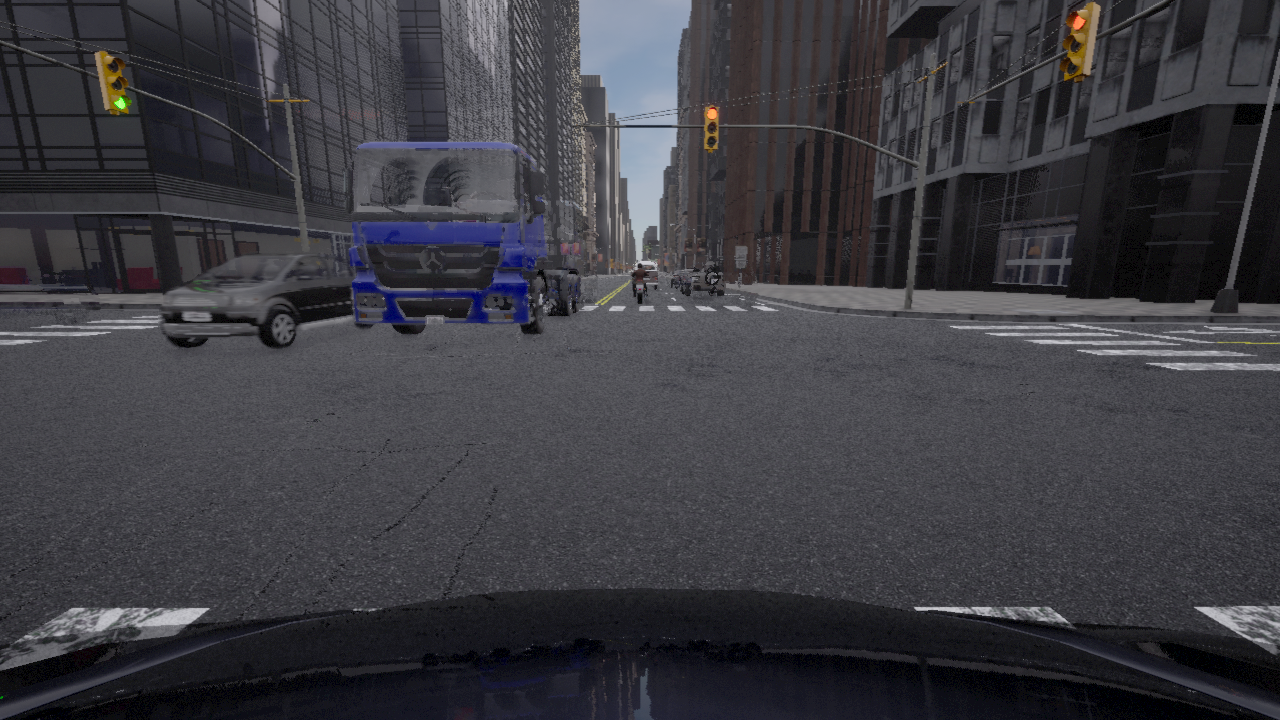cyclist: (0, 588, 1279, 719), (343, 141, 579, 335), (160, 253, 374, 348), (680, 261, 724, 296), (631, 263, 656, 288), (635, 272, 648, 302), (672, 269, 687, 289)
